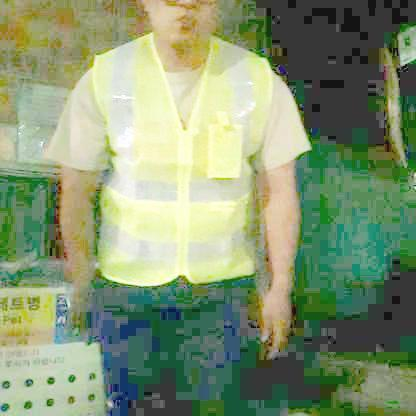vest: (95, 33, 273, 288)
